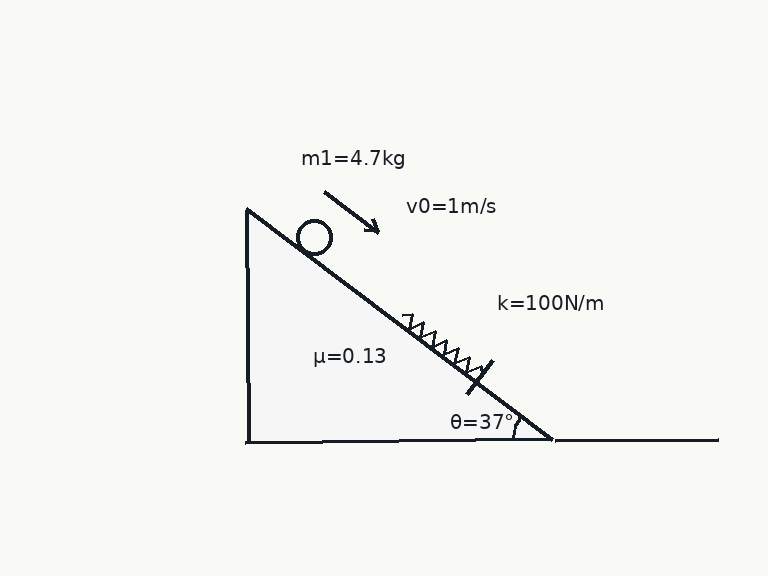ball: (294, 217, 334, 257)
ramp: (244, 207, 555, 442)
spring: (400, 312, 484, 377)
